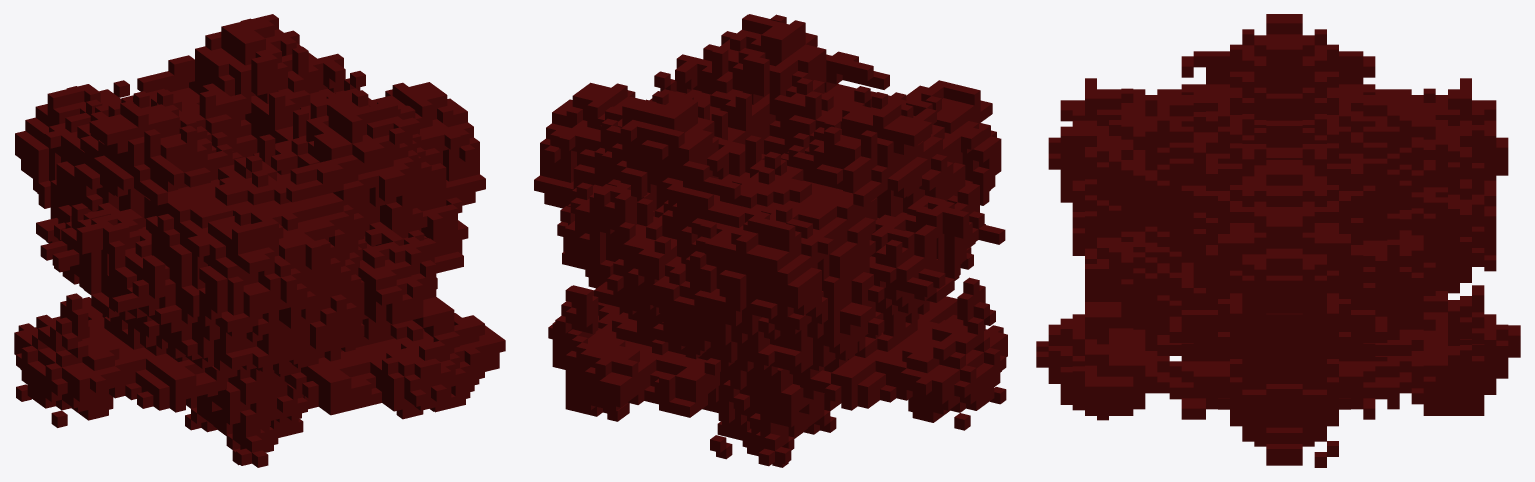
Rendered from bad-1.obj.
3 renders of one model, left to right at view 1: azimuth 30°, elevation 25°; view 2: azimuth 150°, elevation 25°; view 3: azimuth 270°, elevation 25°, orthographic.
Bounding box in the file's own units: 4.1 × 3.4 × 4.
Materials: 1 (1 with a texture image).
